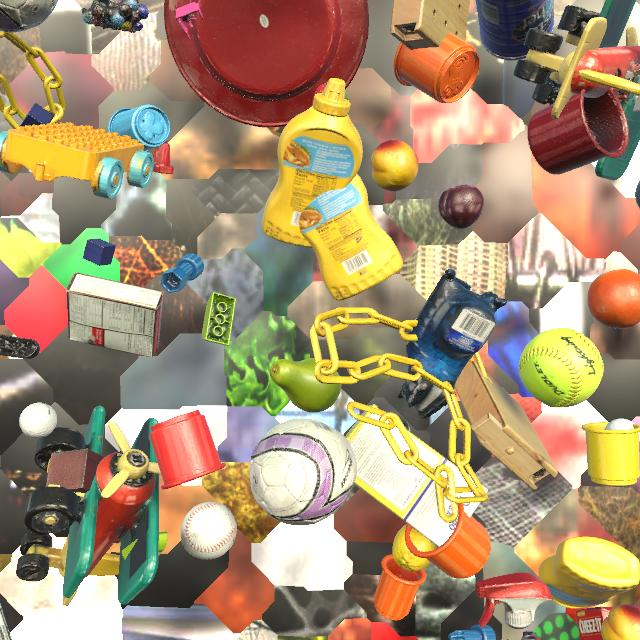ycb_002_master_chef_can: (476, 0, 555, 61)
ycb_003_cracker_box: (575, 606, 640, 640)
ycb_004_sugar_box: (345, 404, 488, 547)
ycb_006_mustard_bottle: (262, 78, 363, 248), (299, 174, 403, 301), (538, 536, 640, 609)
ycb_008_pudding_box: (66, 272, 164, 357)
ycb_012_strawberry: (312, 81, 348, 106)
ycb_014_lemon: (392, 525, 437, 572)
ycb_015_peach: (371, 140, 419, 192), (601, 604, 640, 640)
ycb_016_pear: (270, 358, 341, 413)
ycb_017_orange: (587, 269, 640, 329)
ycb_018_plum: (438, 185, 484, 229)
